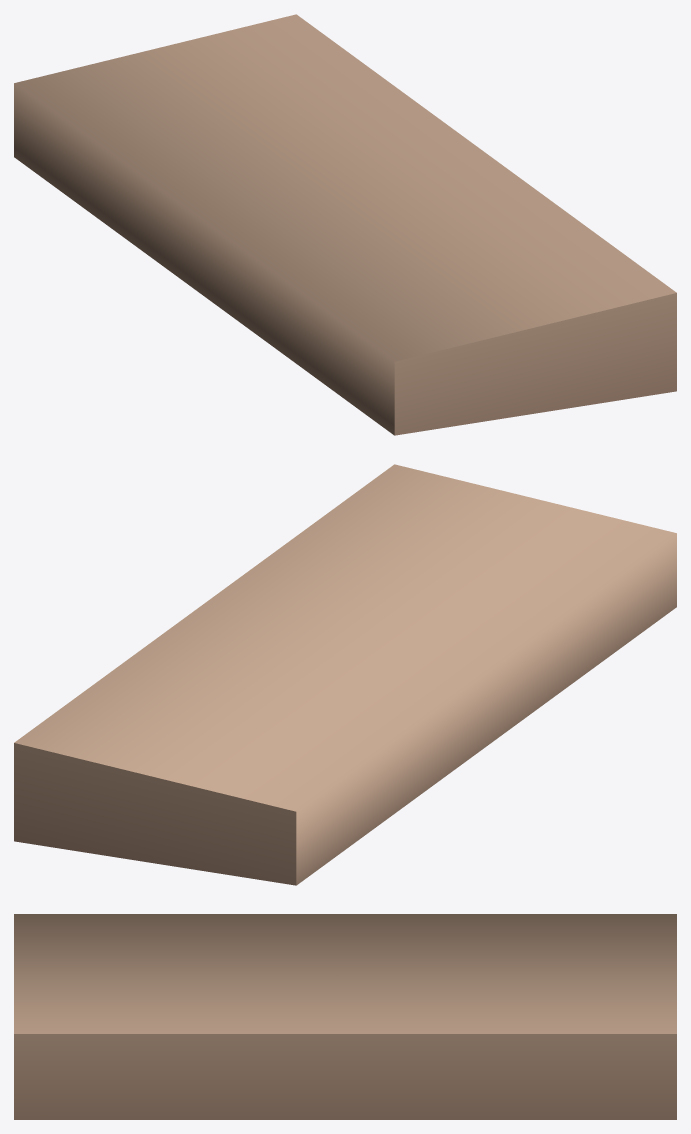
File: shelf-hidden-short (%wall)_0.glb
3 views of the same model, one above another, from view 1: azimuth 30°, elevation 25°; view 2: azimuth 150°, elevation 25°; view 3: azimuth 270°, elevation 25° (orthographic). The views are drawn at different scales.
Visible parts, largest first — view 1: shelf-hidden-short (%wall); view 2: shelf-hidden-short (%wall); view 3: shelf-hidden-short (%wall).
Boxes of the visible parts, <box> form: shelf-hidden-short (%wall): <box>14,14,676,435</box>; shelf-hidden-short (%wall): <box>14,464,676,885</box>; shelf-hidden-short (%wall): <box>14,914,676,1119</box>.
Size of the model in its own units: 0.3 by 0.1 by 0.7.
